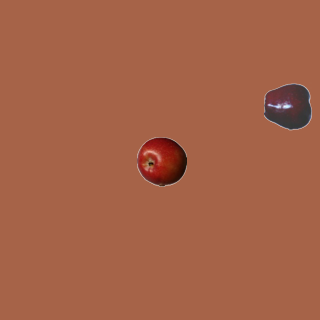Apple Braeburn: (136, 136, 186, 186)
Apple Red Delicious: (263, 81, 313, 131)
